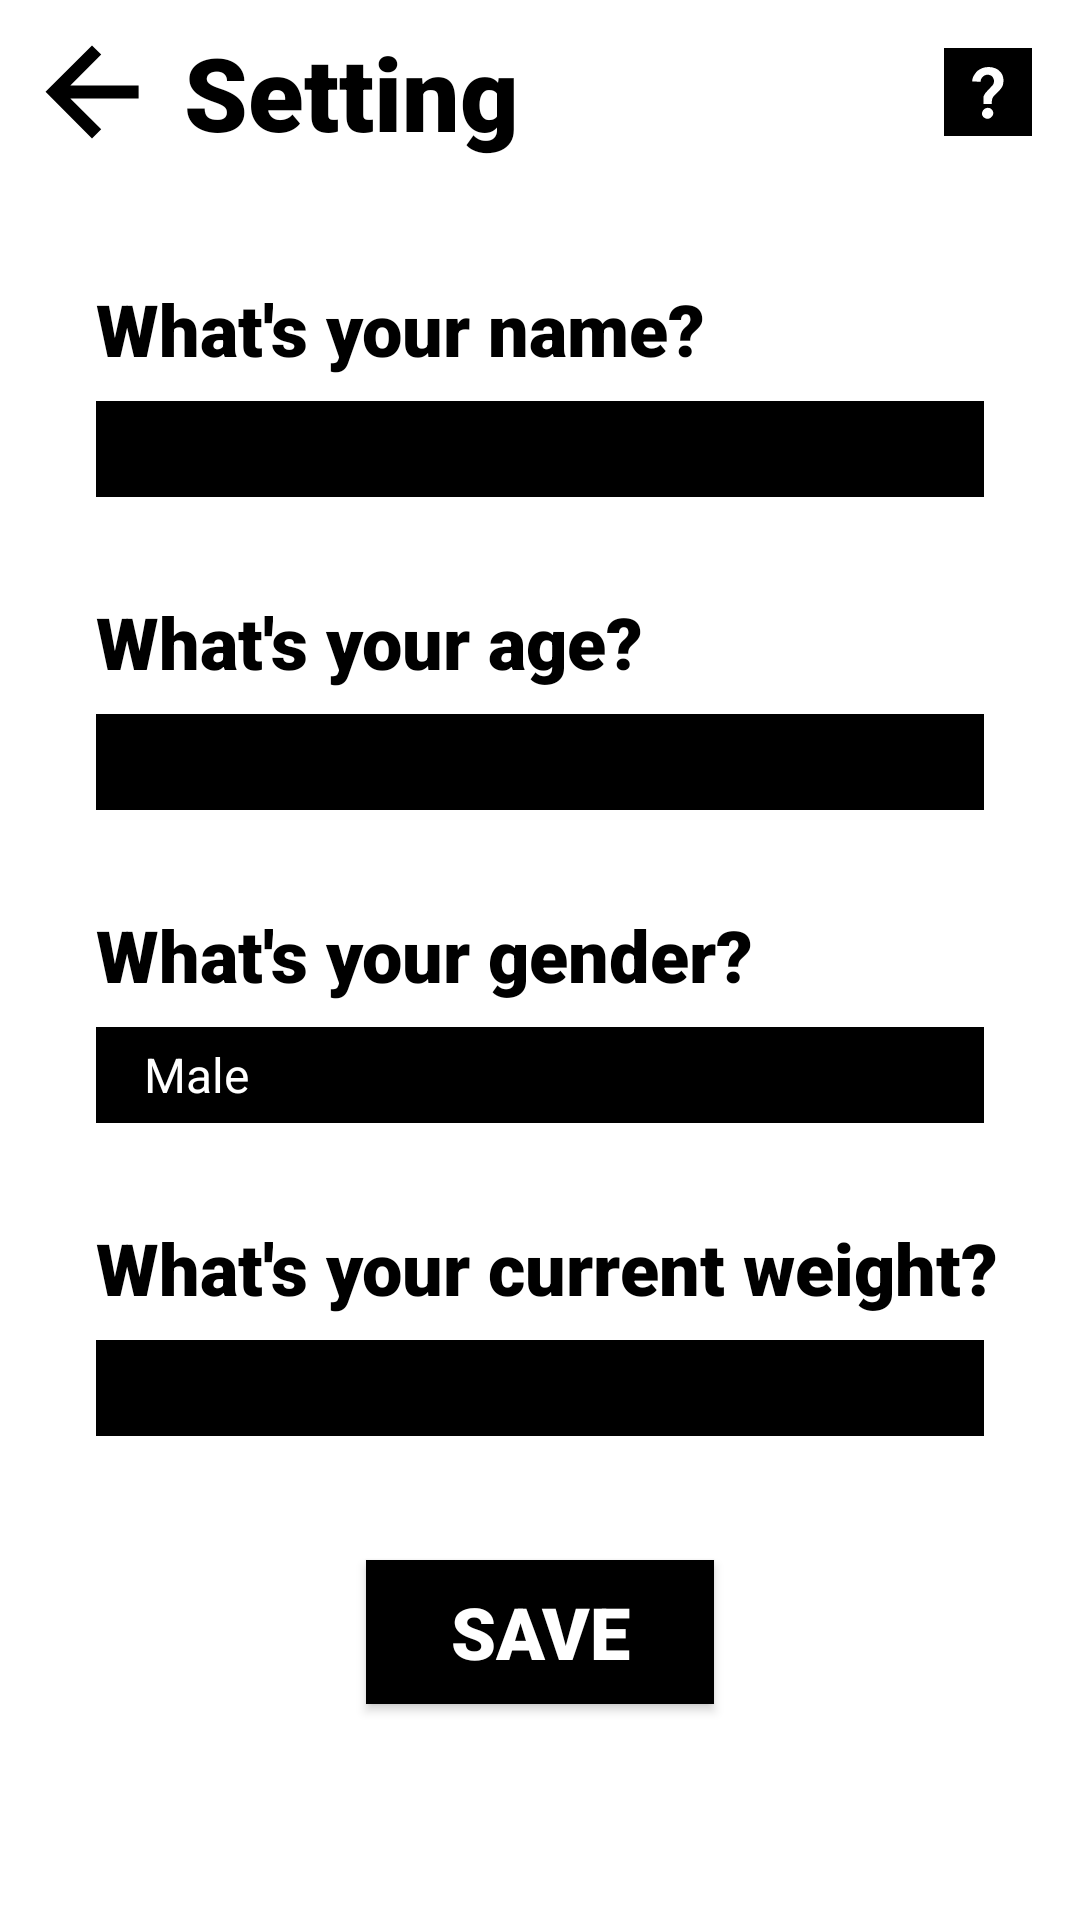

Named icons in this screenshot (1080px×1920px) and their bounding boxes, bbox=[x1, y1, x2, y2]:
arrow back: bbox=[45, 45, 139, 139]
